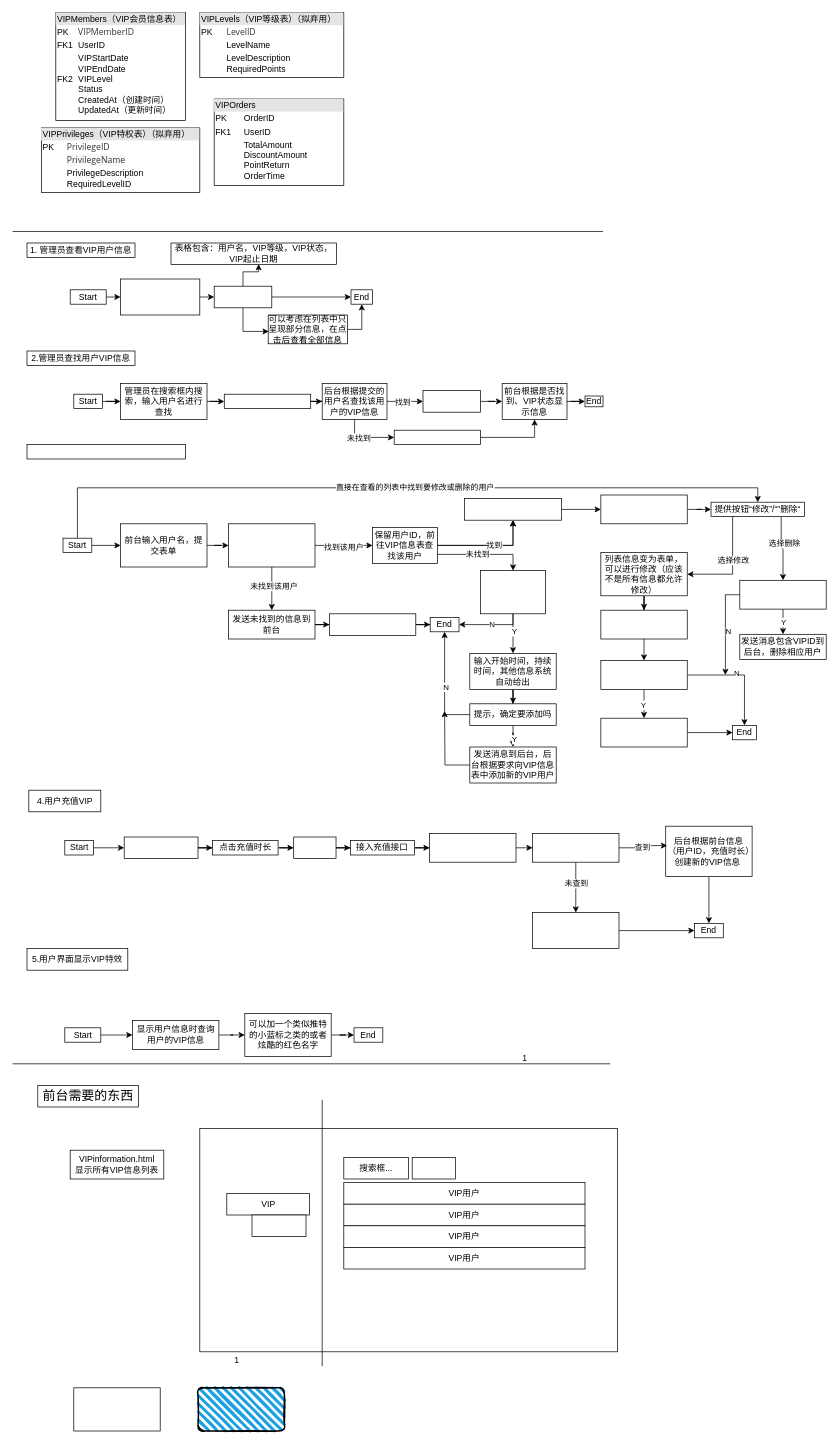
The diagram is 839 pixels wide and 1444 high, and some of its shapes have lost their labels. The shapes that lost their labels are listed below. From the top down, each one's centre as x and y in pixels, then its label:
pixel 160 296: 前台界面访问数据库，获取全部VIP信息的列表
pixel 242 296: 按照表格的形式呈现广告
pixel 267 401: 前台向后台发送信息
pixel 451 401: 后台发送相应VIP信息
pixel 105 451: 3.管理员（更高级）增删改用户VIP信息
pixel 437 437: 返回未找到的信息
pixel 513 509: 后台发送该用户的信息
pixel 643 509: 前台以列表形式显示该用户的VIP信息
pixel 271 545: 后台根据用户名在总的用户信息表查找用户
pixel 512 592: 提示，该用户尚未充值VIP，需要为该用户增添VIP吗
pixel 782 594: 提示信息，确定要进行删除吗
pixel 372 624: 前台显示未找到
pixel 643 624: 点击提交按钮将前台新表单发送到后台
pixel 643 674: 提示信息”确定要进行修改吗“
pixel 643 732: 根据VIPID找到VIP信息，进行修改
pixel 160 847: 点击充值/续费按钮
pixel 314 847: 点击确定
pixel 472 847: 用户付款，向后台发送信息
pixel 575 847: 在VIP信息表中查询用户ID
pixel 575 930: 在旧有信息上更新后台VIP信息，主要是更新Status，结束时间
pixel 433 1168: 搜索按钮
pixel 278 1225: VIP列表
pixel 241 1409: VIP用户特效
